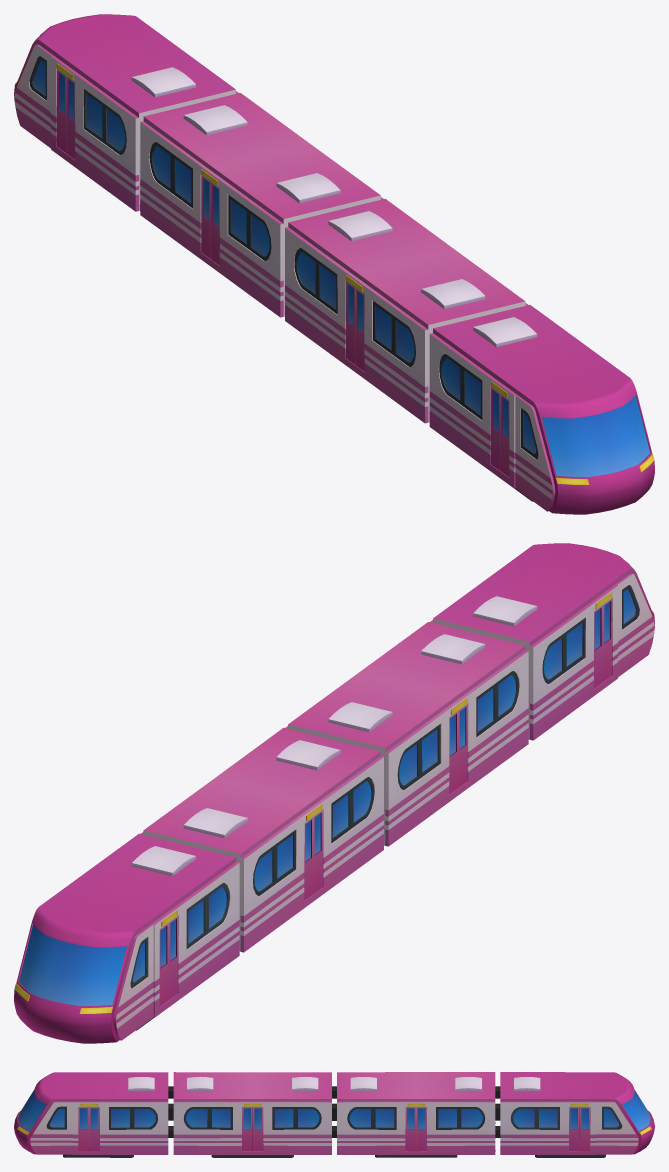
Rendered from Metro.fbx.
3 renders of one model, top to bottom at view 1: azimuth 30°, elevation 25°; view 2: azimuth 150°, elevation 25°; view 3: azimuth 270°, elevation 25°, orthographic. The views are drawn at different scales.
Visible parts, largest first — view 1: Metro; view 2: Metro; view 3: Metro.
Boxes of the visible parts, box(x1,y1,x2,y2) form: Metro: box(14, 14, 654, 514); Metro: box(14, 543, 654, 1043); Metro: box(14, 1072, 654, 1157).
Bounding box in the file's own units: 0.771 × 0.7909 × 7.18.
